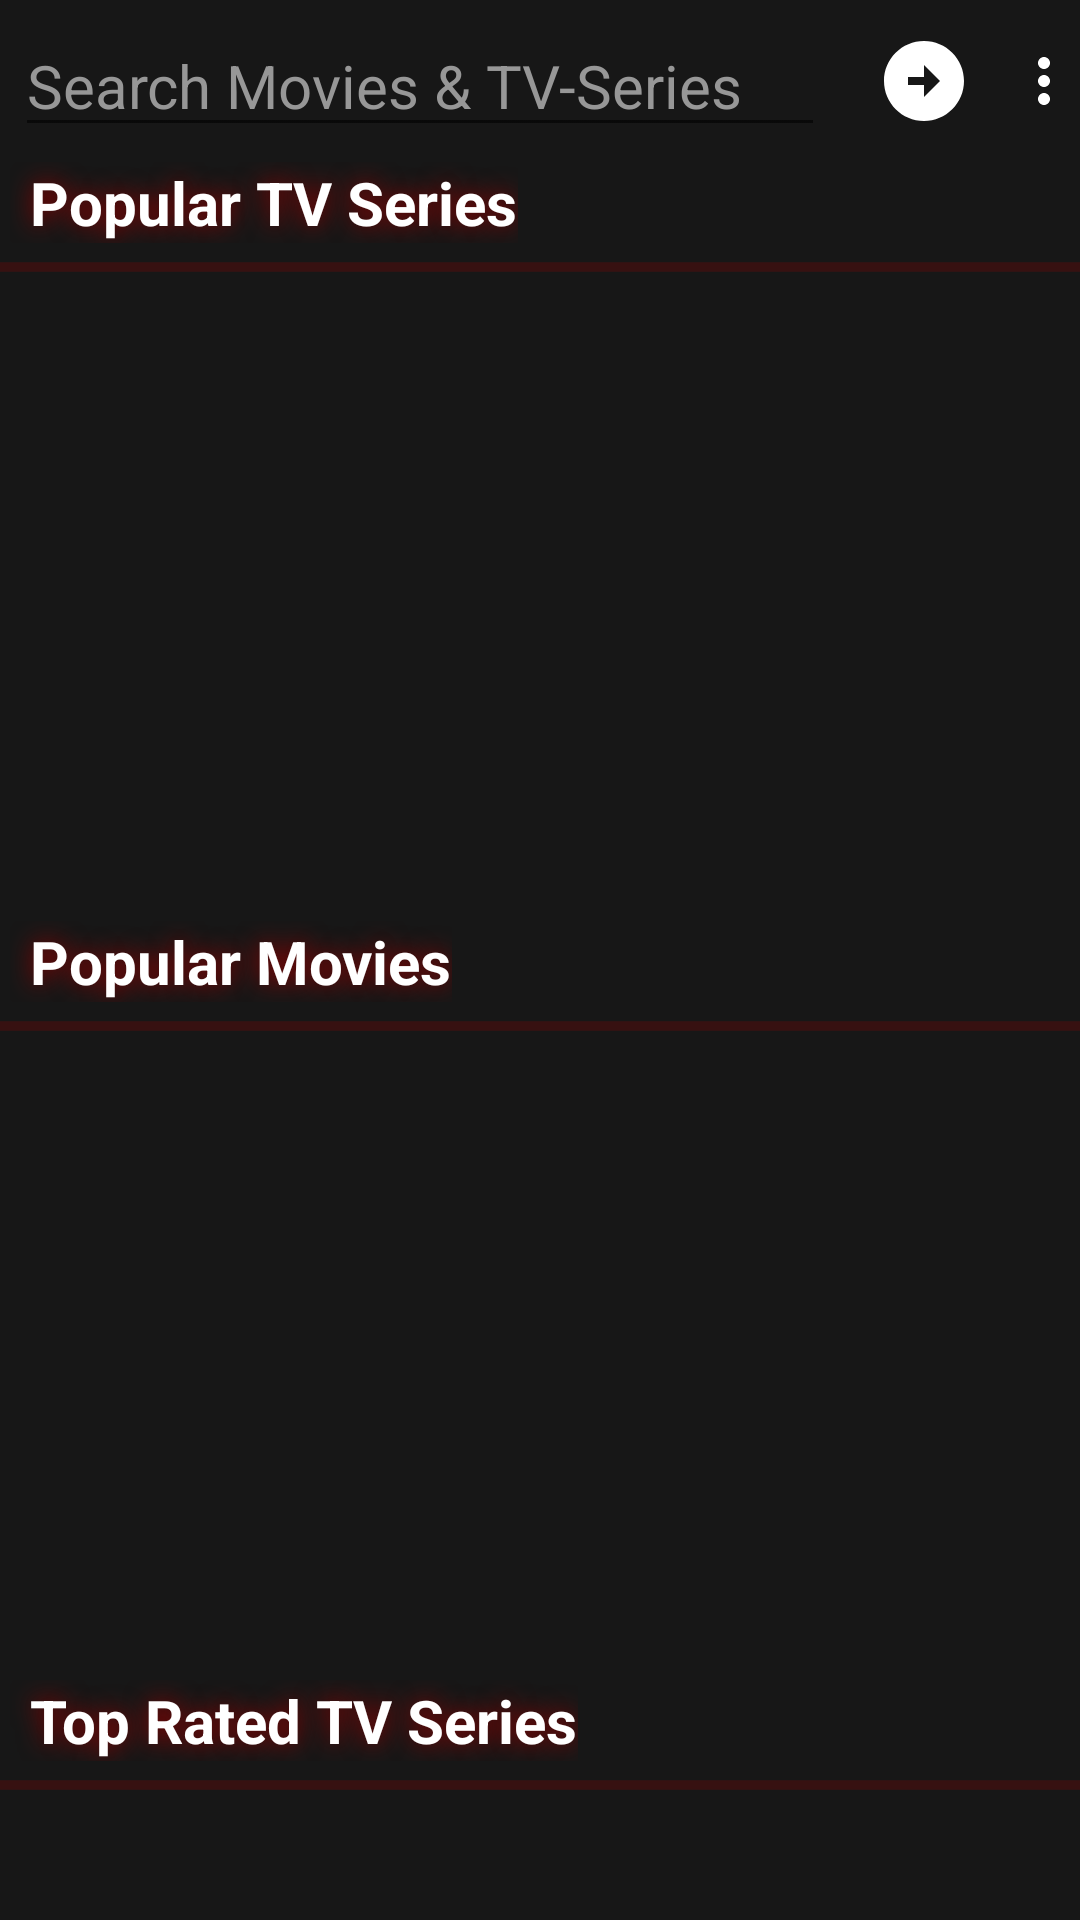

Locate icon controls on the screen. Image size 1080x1920, boxes as (x1, y1, x2, y2).
arrow circle right: (884, 41, 964, 121)
more vert: (1038, 57, 1050, 105)
